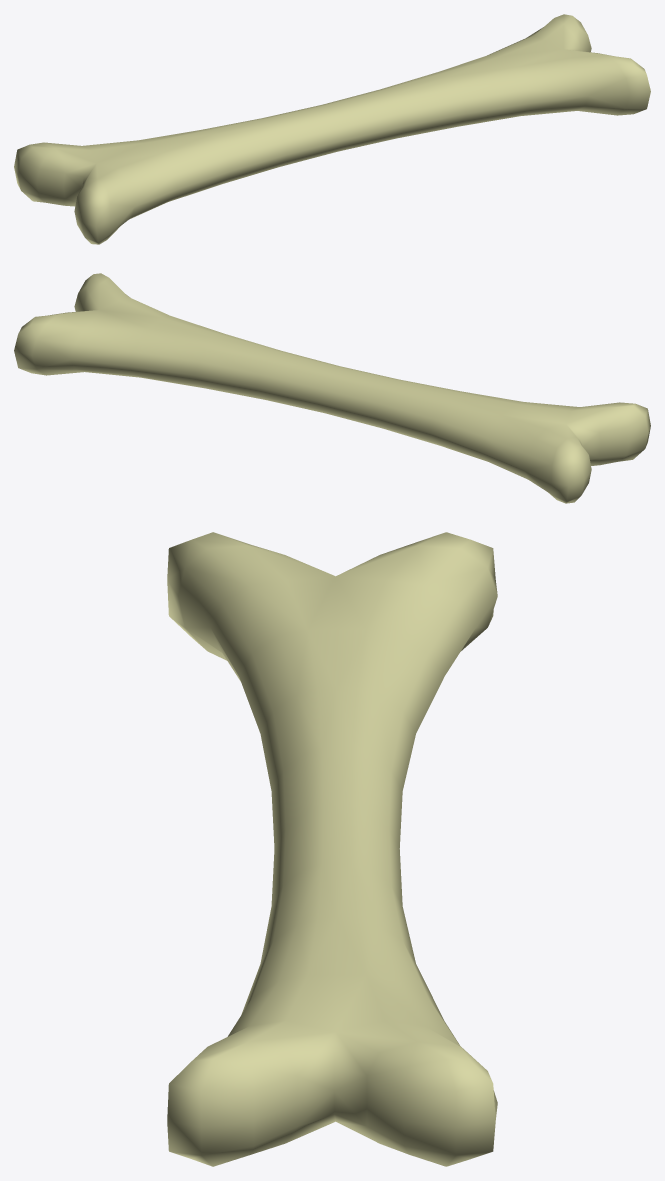
Rendered from Bone.fbx.
3 views of the same model, one above another, from view 1: azimuth 30°, elevation 25°; view 2: azimuth 150°, elevation 25°; view 3: azimuth 270°, elevation 25° (orthographic). The views are drawn at different scales.
Parts seen in each view (by area): view 1: Bone; view 2: Bone; view 3: Bone.
Part boxes in pixels (left/top/right/bottom): Bone: left=14, top=14, right=650, bottom=244; Bone: left=14, top=273, right=650, bottom=503; Bone: left=167, top=532, right=497, bottom=1166.
Size of the model in its own units: 240 by 22.41 by 60.74.
